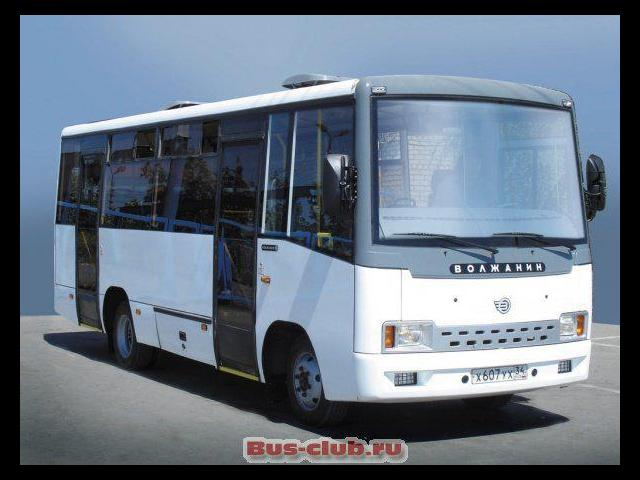bus: (47, 37, 620, 439)
